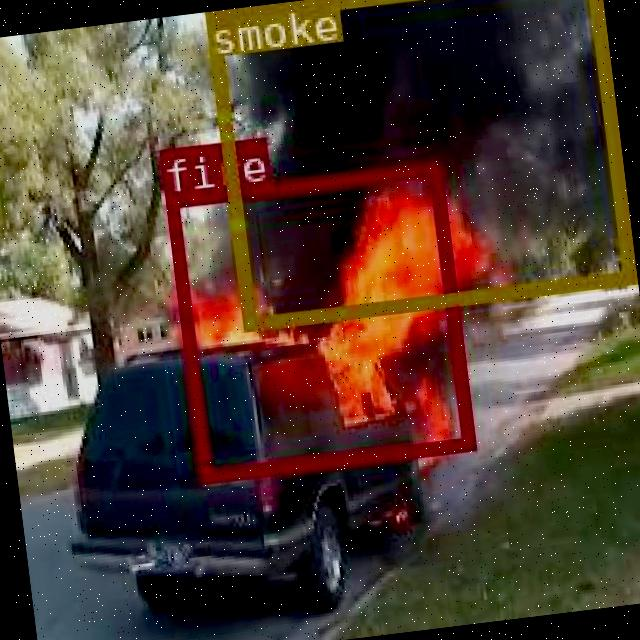fire: (162, 160, 472, 482)
smoke: (201, 0, 632, 327)
